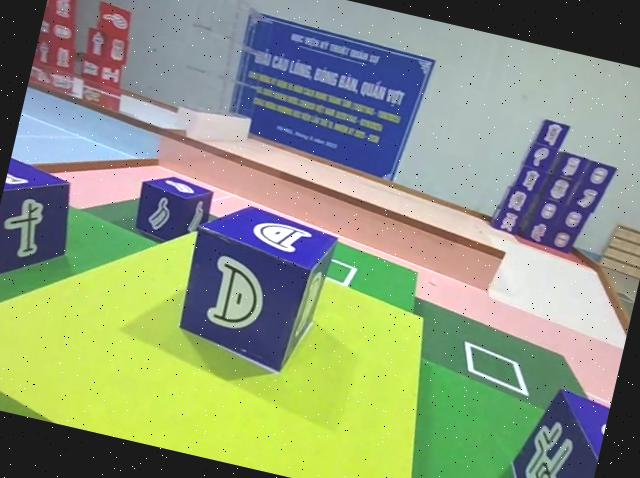R2 Real Blue: (170, 193, 344, 379), (0, 156, 81, 304), (499, 381, 611, 478), (127, 172, 215, 255)
